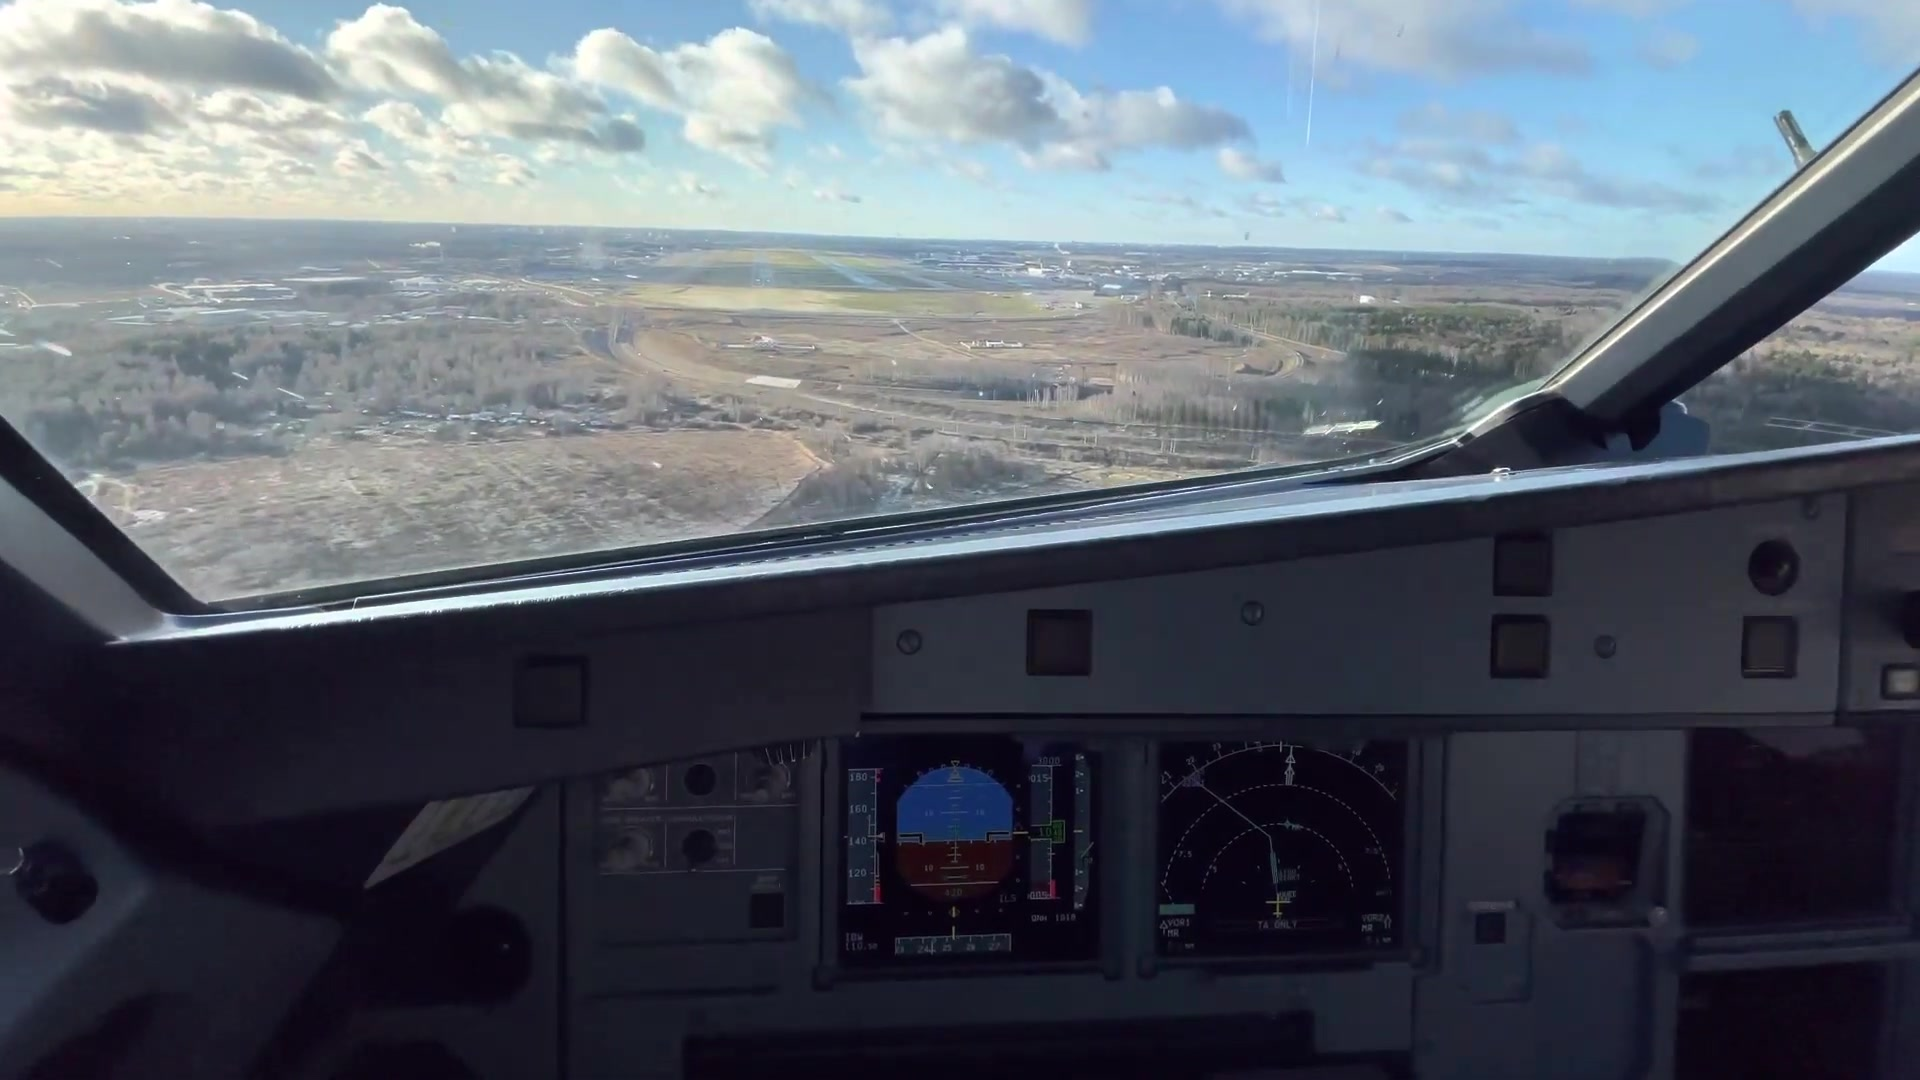runway: (808, 255, 891, 287), (752, 249, 775, 290)
